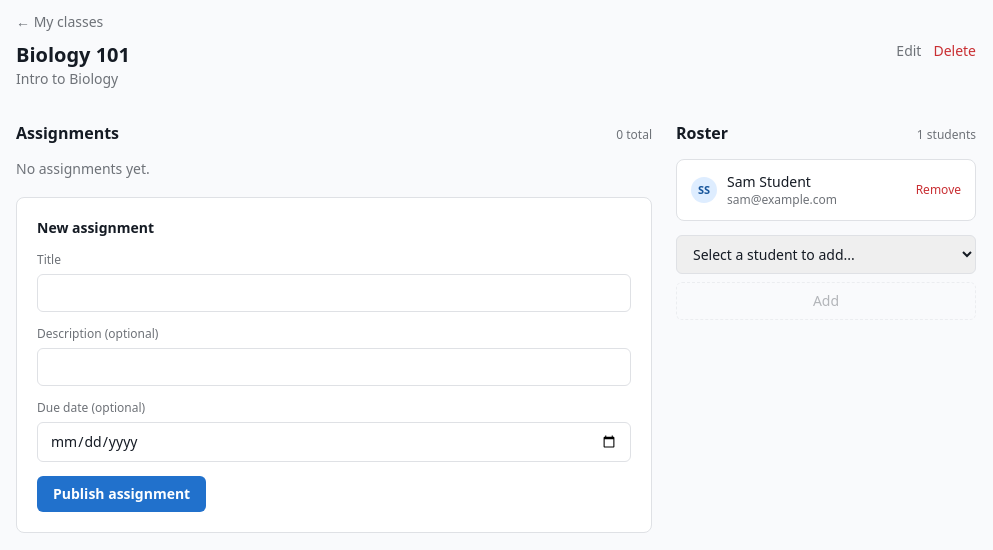
it: ClassDetailPage › removes a student from the roster
Check: the text "Sam Student" is shown, box top-left (727, 172), bottom-right (811, 191)
Click the button "Remove": {"x": 938, "y": 190} top-left (916, 182), bottom-right (961, 198)
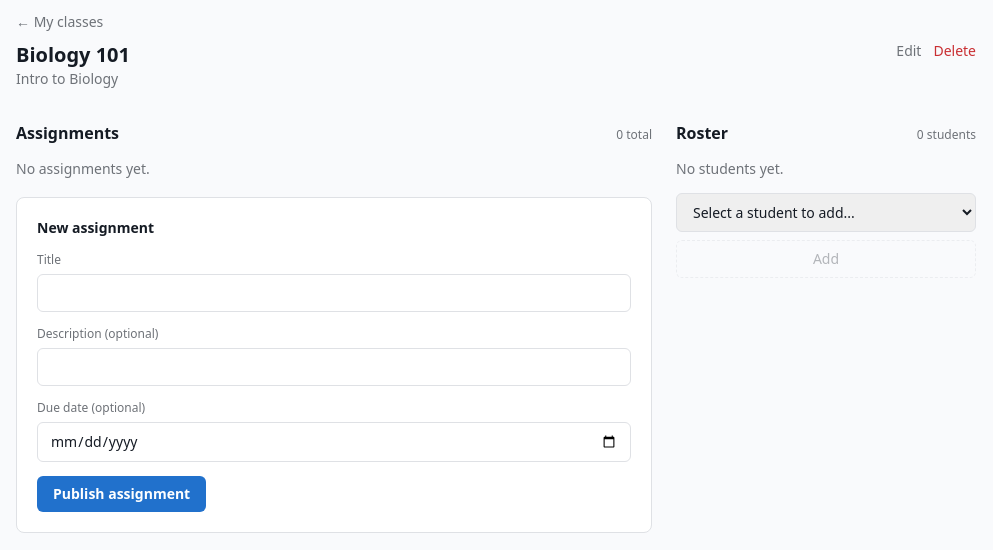
Check: the text "No students yet." is shown, box top-left (676, 159), bottom-right (784, 178)
